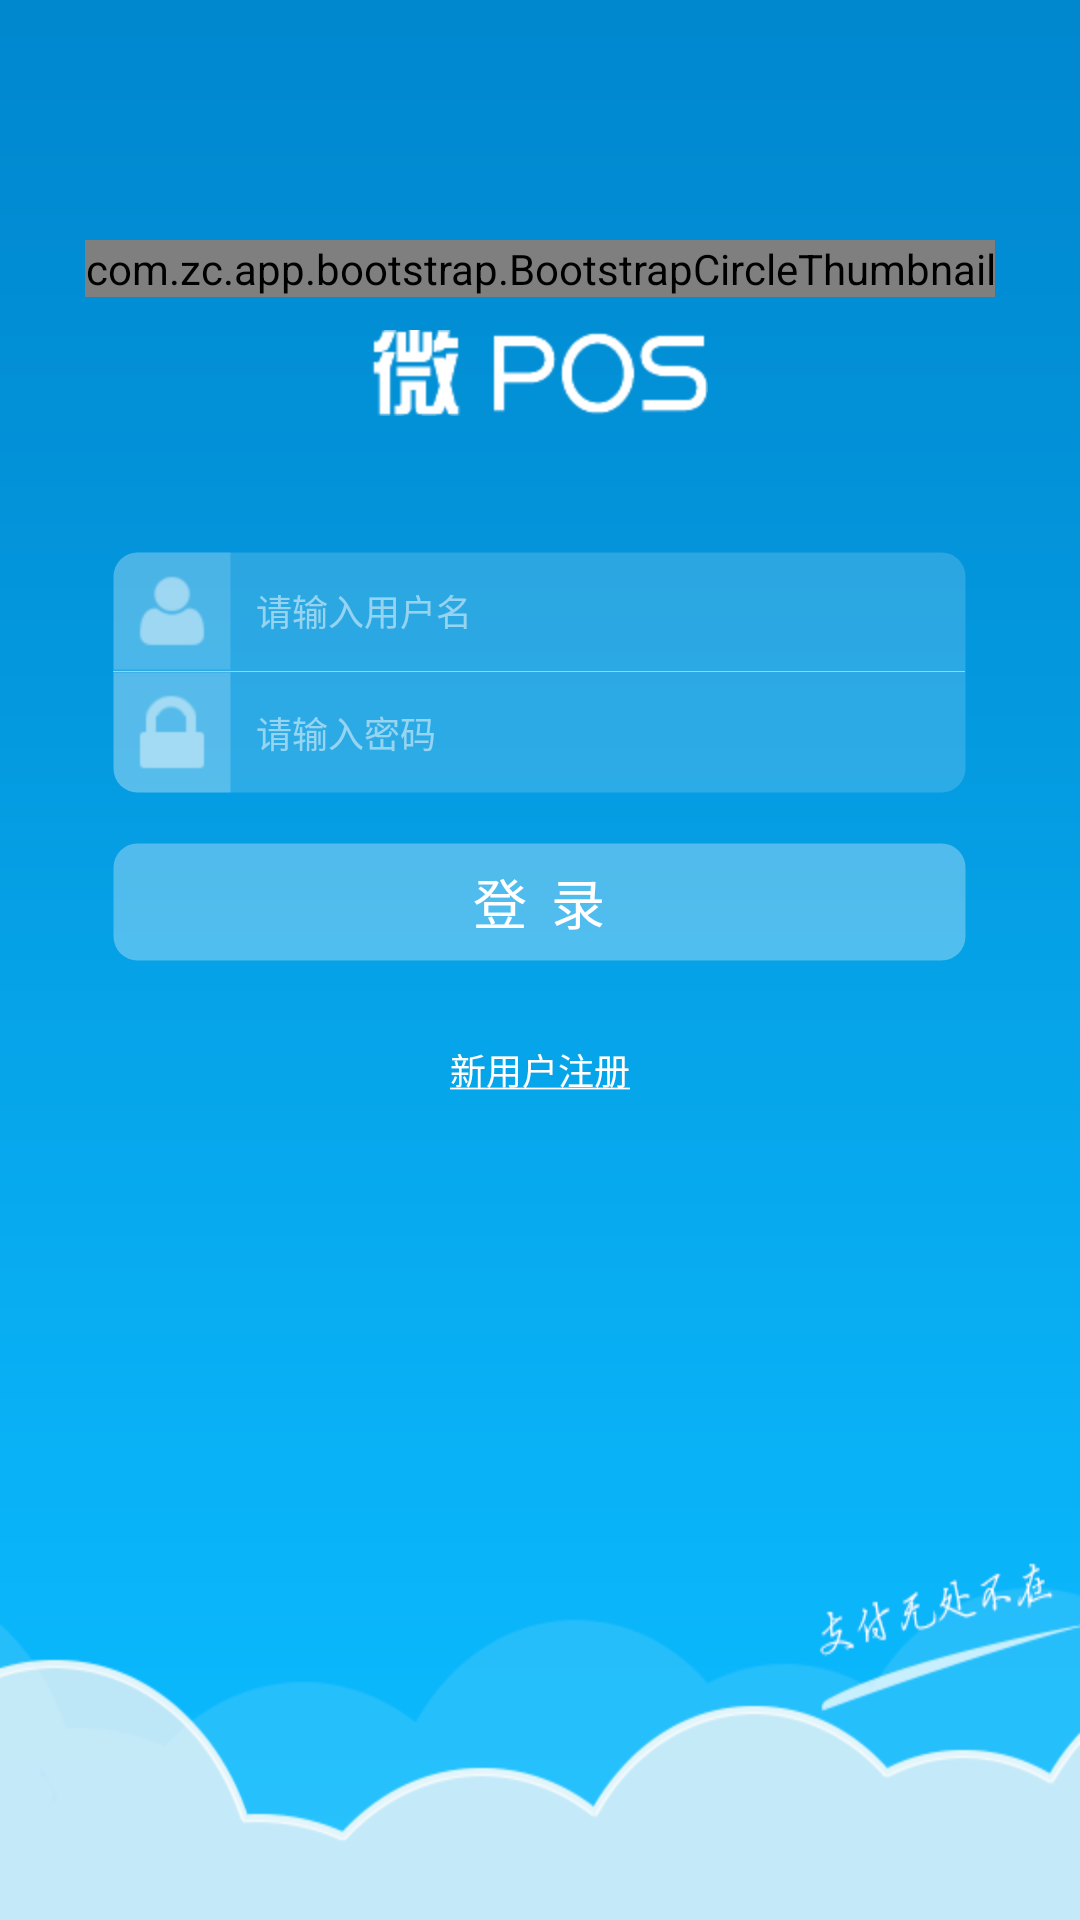

Locate icon controls on the screen. Image size 1080x1920, boxes as bbox=(x1, y1, x2, y2).
login password: bbox=(140, 696, 204, 768)
login username: bbox=(140, 577, 204, 645)
